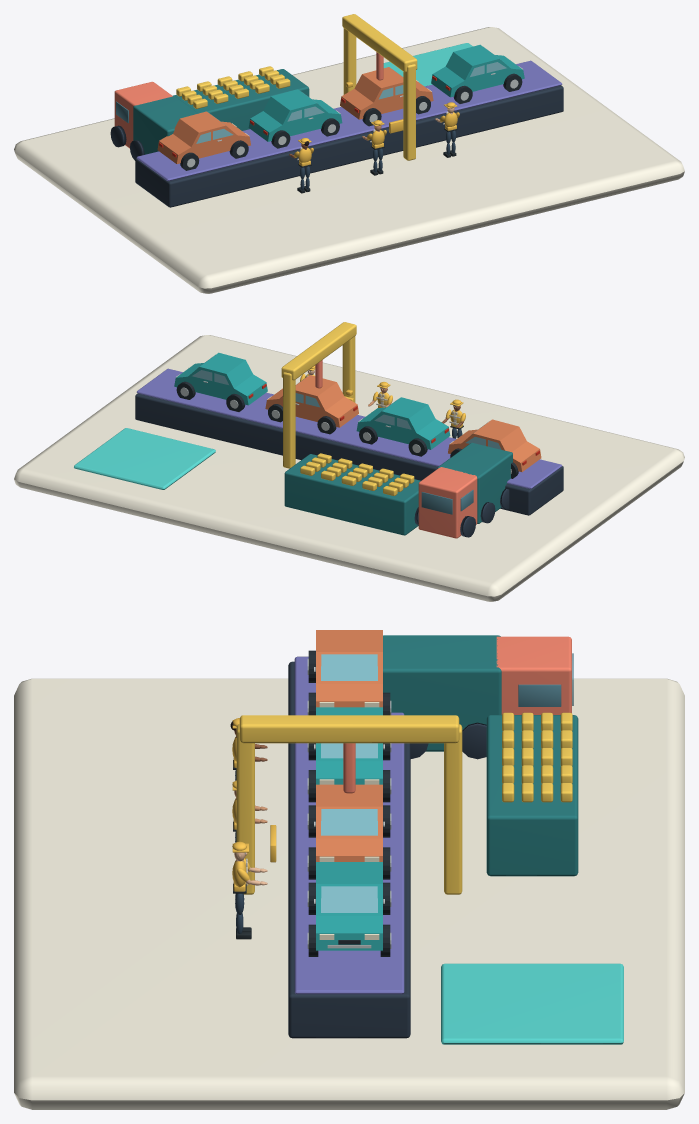
Rendered from factory.glb.
3 renders of one model, top to bottom at view 1: azimuth 30°, elevation 25°; view 2: azimuth 150°, elevation 25°; view 3: azimuth 270°, elevation 25°, orthographic. The views are drawn at different scales.
Visible parts, largest first — view 1: Factory foundation, Assembly conveyor, Assembly belt, SupplierTruck, Car_03, Car_01, Car_00, Car_02, Components rack, Assembly gantry, Assembly support, Finished loading bay (+1 smaller); view 2: Factory foundation, Assembly conveyor, SupplierTruck, Components rack, Assembly belt, Finished loading bay, Car_03, Car_01, Car_02, Car_00, Assembly gantry, Assembly support.001 (+2 smaller); view 3: Factory foundation, SupplierTruck, Finished loading bay, Assembly belt, Components rack, Assembly conveyor, Car_03, Assembly gantry, Car_02, Car_00, Car_01, Assembly support.001 (+2 smaller).
Boxes of the visible parts, left/top/right/bottom form: Factory foundation: left=14, top=27, right=684, bottom=293; Assembly conveyor: left=135, top=85, right=563, bottom=207; Assembly belt: left=136, top=60, right=562, bottom=181; SupplierTruck: left=110, top=81, right=198, bottom=160; Car_03: left=431, top=44, right=524, bottom=103; Car_01: left=248, top=89, right=342, bottom=148; Car_00: left=157, top=111, right=250, bottom=170; Car_02: left=340, top=67, right=433, bottom=126; Components rack: left=173, top=69, right=309, bottom=130; Assembly gantry: left=342, top=14, right=417, bottom=72; Assembly support: left=403, top=64, right=415, bottom=160; Finished loading bay: left=383, top=43, right=472, bottom=86; Factory foundation: left=14, top=335, right=684, bottom=601; Assembly conveyor: left=135, top=393, right=563, bottom=515; SupplierTruck: left=414, top=442, right=512, bottom=538; Components rack: left=284, top=454, right=420, bottom=535; Assembly belt: left=136, top=368, right=562, bottom=489; Finished loading bay: left=74, top=428, right=215, bottom=489; Car_03: left=174, top=352, right=267, bottom=411; Car_01: left=356, top=397, right=450, bottom=456; Car_02: left=265, top=375, right=358, bottom=434; Car_00: left=448, top=419, right=541, bottom=478; Assembly gantry: left=281, top=322, right=356, bottom=380; Assembly support.001: left=283, top=372, right=295, bottom=468; Factory foundation: left=14, top=678, right=684, bottom=1109; SupplierTruck: left=383, top=635, right=571, bottom=759; Finished loading bay: left=441, top=963, right=623, bottom=1044; Assembly belt: left=294, top=656, right=404, bottom=994; Components rack: left=486, top=715, right=578, bottom=876; Assembly conveyor: left=288, top=661, right=410, bottom=1038; Car_03: left=307, top=862, right=391, bottom=956; Assembly gantry: left=239, top=715, right=459, bottom=743; Car_02: left=307, top=784, right=391, bottom=879; Car_00: left=307, top=630, right=391, bottom=715; Car_01: left=307, top=707, right=391, bottom=802; Assembly support.001: left=444, top=724, right=462, bottom=894.
Bounding box in the file's own units: 16 × 3.93 × 11.
